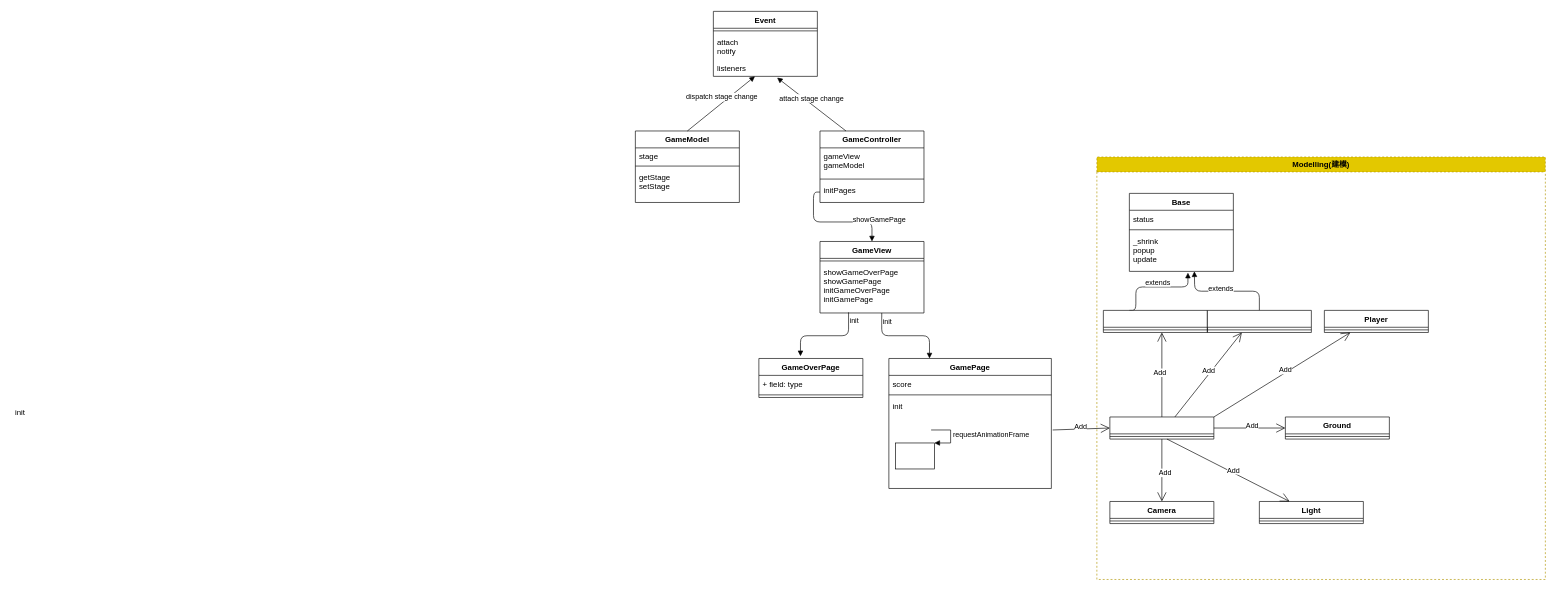
This 1557x591 diagram has some shape labels left out. Here are the shapes that lost their labels. From the top down, the centre of each, then its label:
point 1155,321: Cuboid(立方体)
point 1259,321: Cylinder(圆柱体)
point 1161,427: Scene(场景)
point 914,455: render
